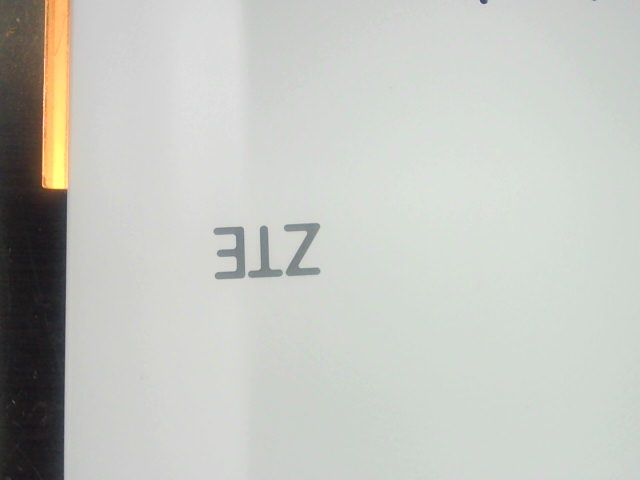AO_ZTESmall: (205, 217, 333, 288)
